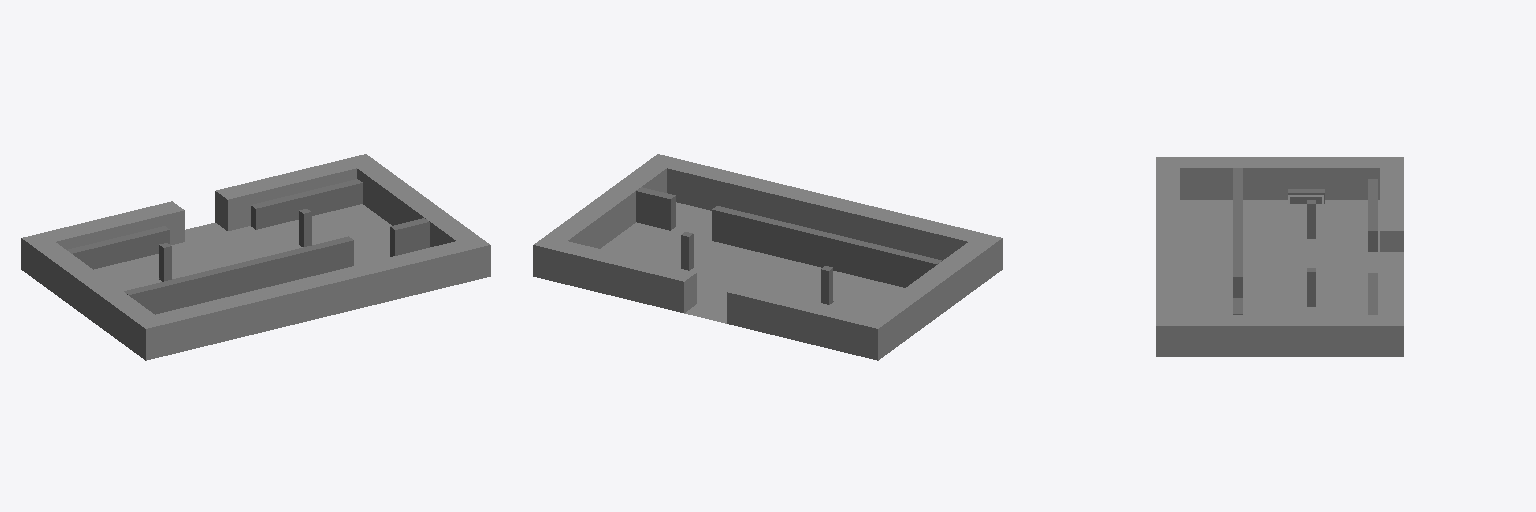
Rendered from RoomTest.obj.
3 views of the same model, side by side, from view 1: azimuth 30°, elevation 25°; view 2: azimuth 150°, elevation 25°; view 3: azimuth 270°, elevation 25° (orthographic).
Visible parts, largest first — view 1: Collision, polySurface1_RoomScale_room; view 2: polySurface1_RoomScale_room, Collision; view 3: polySurface1_RoomScale_room, Collision.
Part boxes in pixels (x1,y1,x2,y2): Collision: (22,154,490,359); polySurface1_RoomScale_room: (21,169,490,360); polySurface1_RoomScale_room: (533,169,1002,360); Collision: (533,154,1001,359); polySurface1_RoomScale_room: (1156,168,1403,356); Collision: (1156,157,1403,356).
Bounding box in the file's own units: 80 × 7.71 × 50.